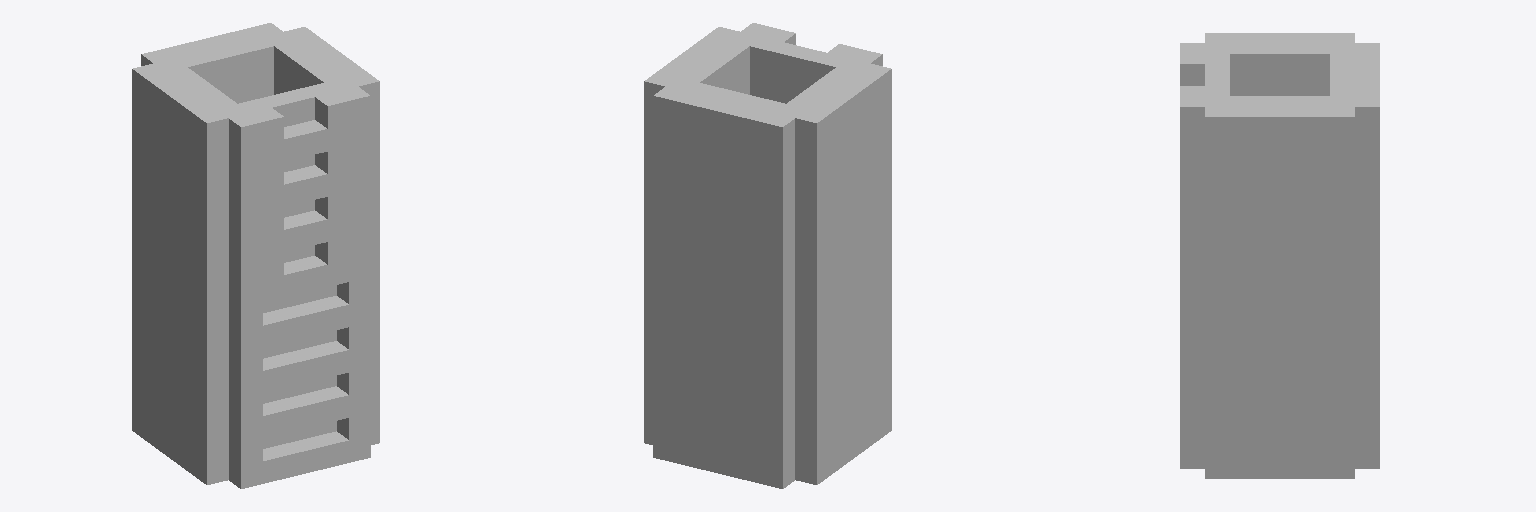
File: 04_cave_pole_base_8X.obj
3 renders of one model, left to right at view 1: azimuth 30°, elevation 25°; view 2: azimuth 150°, elevation 25°; view 3: azimuth 270°, elevation 25°, orthographic.
Size of the model in its own units: 8 by 16 by 8.